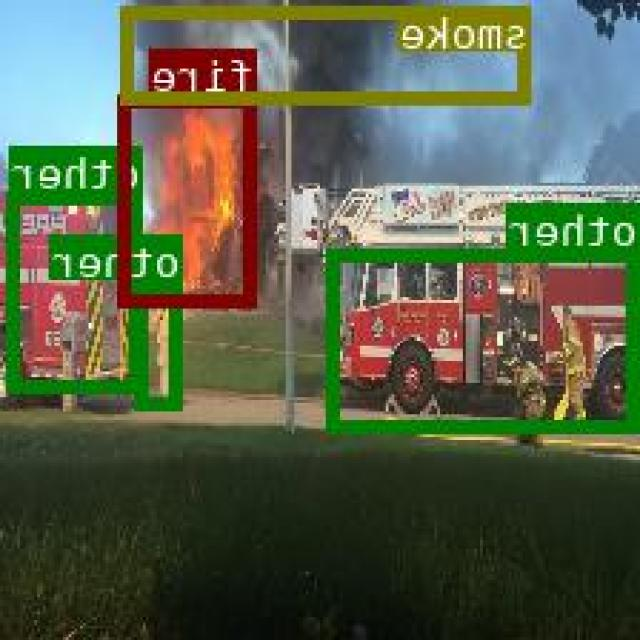fire: (121, 94, 257, 304)
other: (329, 247, 640, 430), (10, 191, 144, 389), (139, 278, 184, 407)
smoke: (126, 3, 534, 102)
